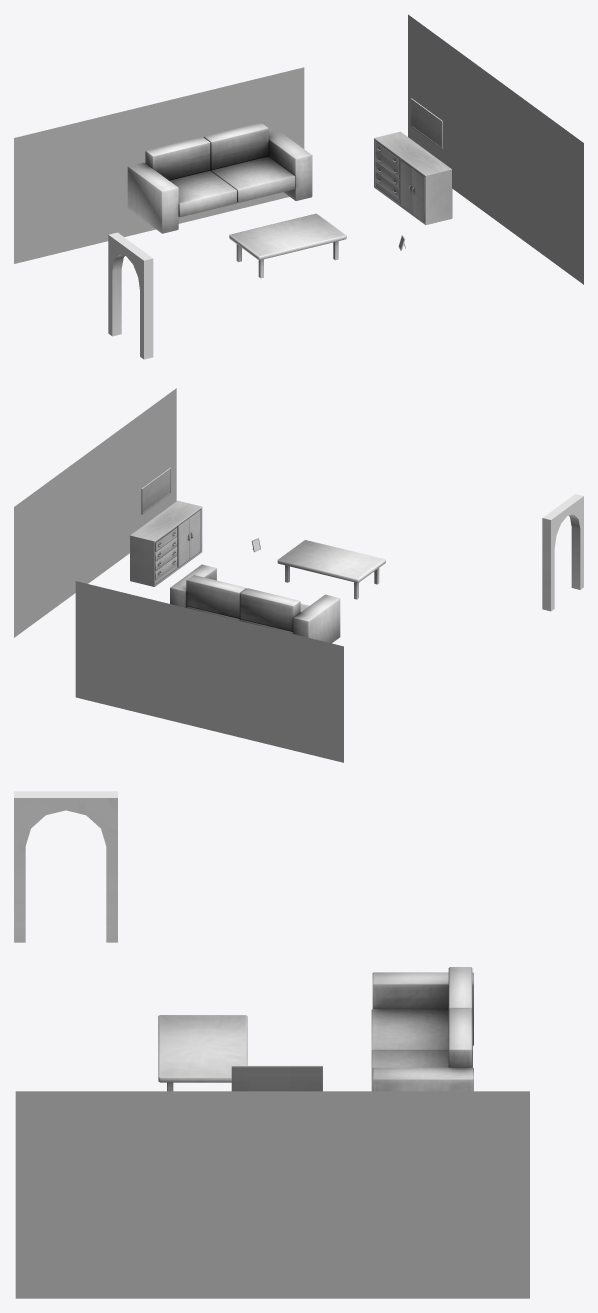
Rendered from roompieces01.fbx.
3 renders of one model, top to bottom at view 1: azimuth 30°, elevation 25°; view 2: azimuth 150°, elevation 25°; view 3: azimuth 270°, elevation 25°, orthographic. The views are drawn at different scales.
Parts seen in each view (by area): view 1: unwrapped:pPlane2, unwrapped:pPlane3, unwrapped:pCube15, unwrapped:unwrapped:pCube44, unwrapped:pCube51, unwrapped:pCube30, unwrapped:pCube18; view 2: unwrapped:pPlane2, unwrapped:pPlane3, unwrapped:pCube15, unwrapped:unwrapped:pCube44, unwrapped:pCube51, unwrapped:pCube30, unwrapped:pCube18; view 3: unwrapped:pPlane3, unwrapped:pCube15, unwrapped:pCube30, unwrapped:pCube51, unwrapped:pCube18.
Boxes of the visible parts, x1,y1,x2,y2 form: unwrapped:pPlane2: (14,67,304,263); unwrapped:pPlane3: (408,14,583,284); unwrapped:pCube15: (127,122,312,233); unwrapped:unwrapped:pCube44: (374,131,452,225); unwrapped:pCube51: (229,213,346,278); unwrapped:pCube30: (108,232,153,359); unwrapped:pCube18: (410,98,442,148); unwrapped:pPlane2: (75,581,343,762); unwrapped:pPlane3: (14,388,176,637); unwrapped:pCube15: (170,564,340,643); unwrapped:unwrapped:pCube44: (130,500,202,586); unwrapped:pCube51: (277,540,385,599); unwrapped:pCube30: (542,494,583,611); unwrapped:pCube18: (141,467,170,514); unwrapped:pPlane3: (15,1091,529,1298); unwrapped:pCube15: (371,967,473,1091); unwrapped:pCube30: (14,791,117,942); unwrapped:pCube51: (158,1015,247,1091); unwrapped:pCube18: (231,1065,322,1091).
Size of the model in its own units: 1240 by 462 by 951.
